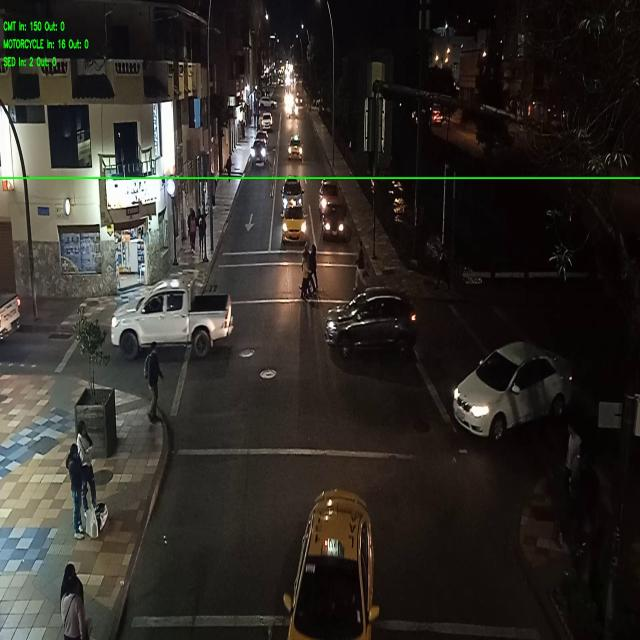CMT: (111, 276, 231, 351), (0, 285, 20, 340)
SED: (290, 494, 369, 638), (456, 344, 554, 436), (283, 207, 304, 243), (324, 202, 344, 238), (282, 177, 302, 206), (289, 136, 302, 161)
SUV: (326, 285, 416, 355), (253, 141, 266, 166), (259, 97, 277, 108), (262, 113, 272, 131)
